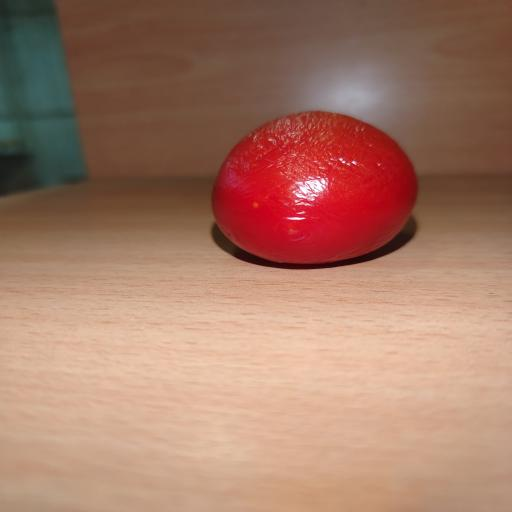spoiled: (212, 112, 416, 263), (294, 178, 327, 201)
